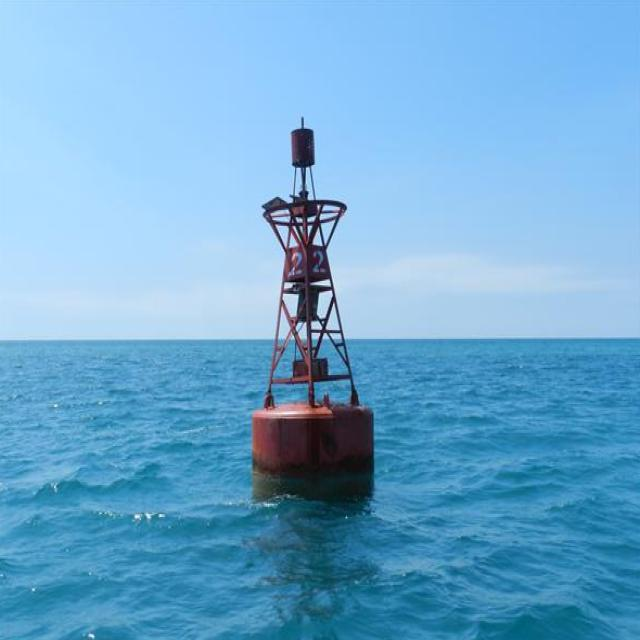buoy: (242, 119, 381, 474)
